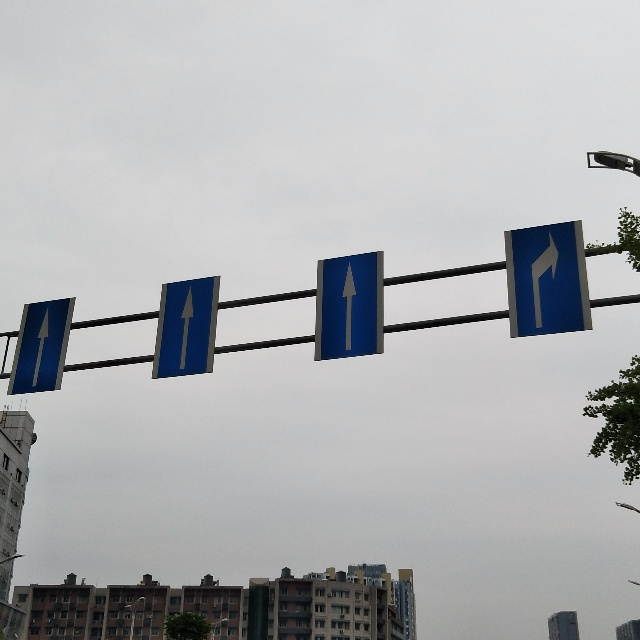right: (519, 223, 577, 334)
straight: (164, 279, 210, 373), (329, 258, 372, 356), (21, 300, 57, 387)
